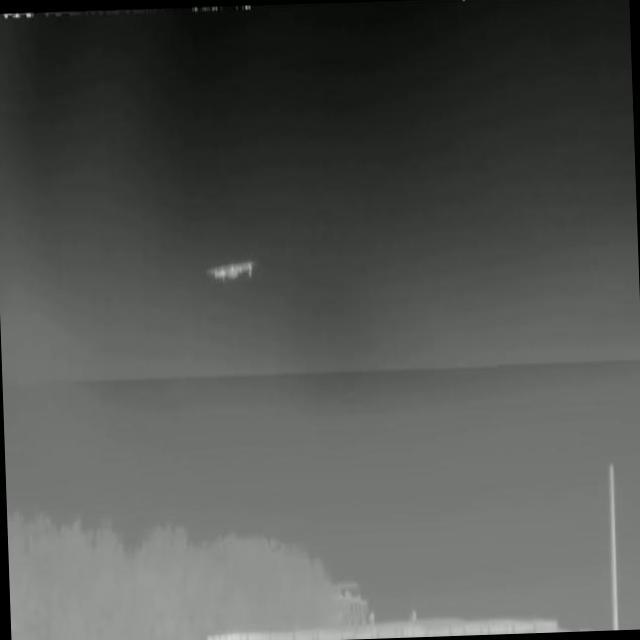DRONE: (199, 249, 262, 294)
